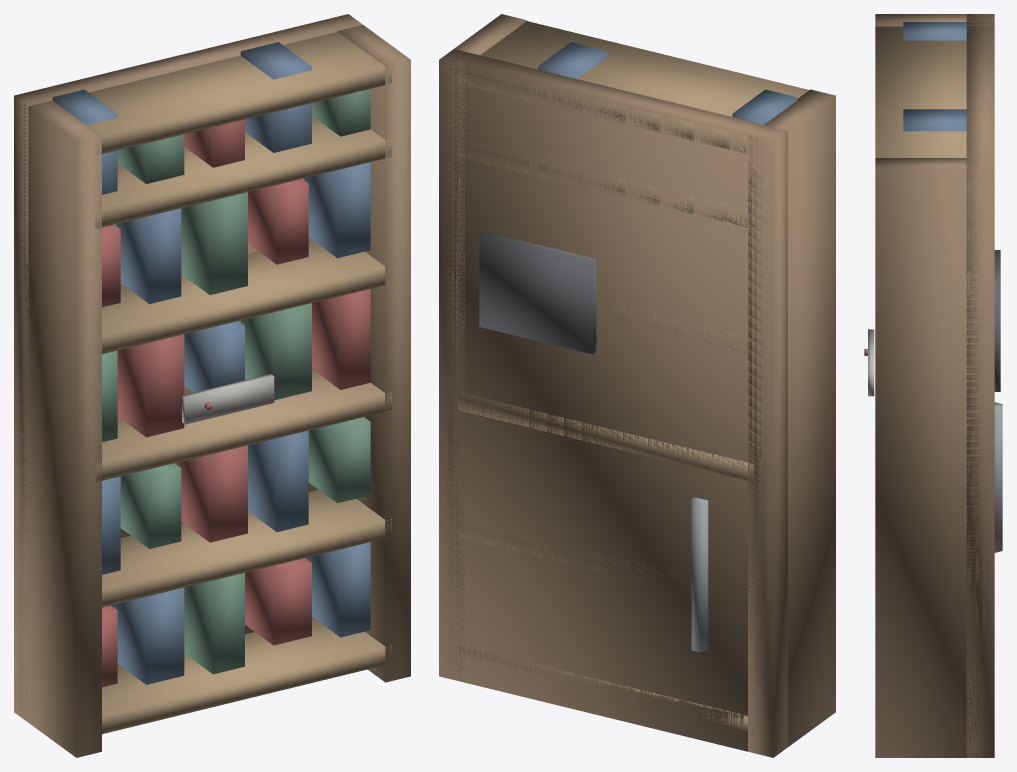
File: bookcase_bay__service.glb
3 views of the same model, side by side, from view 1: azimuth 30°, elevation 25°; view 2: azimuth 150°, elevation 25°; view 3: azimuth 270°, elevation 25° (orthographic). The views are drawn at different scales.
Parts seen in each view (by area): view 1: world; view 2: world; view 3: world.
Boxes of the visible parts, left/top/right/bottom form: world: left=14, top=14, right=410, bottom=757; world: left=439, top=14, right=835, bottom=757; world: left=864, top=14, right=1002, bottom=757.
Bounding box in the file's own units: 1.05 × 1.86 × 0.3937.
